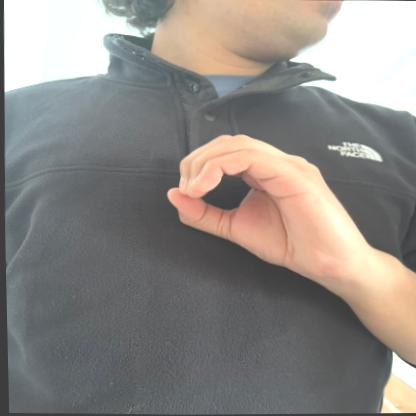O: (157, 126, 345, 273)
